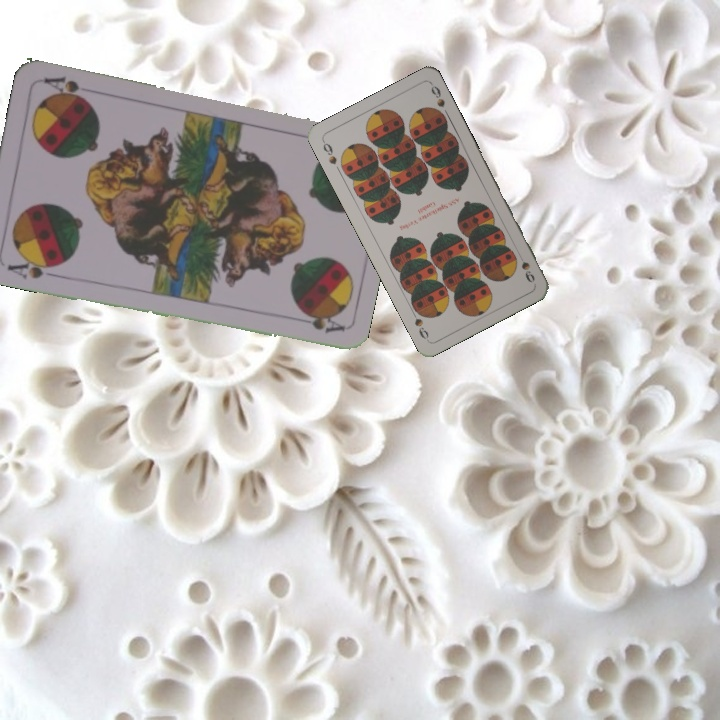S9: (514, 248, 537, 286), (318, 137, 339, 167)
SA: (3, 253, 60, 282)
